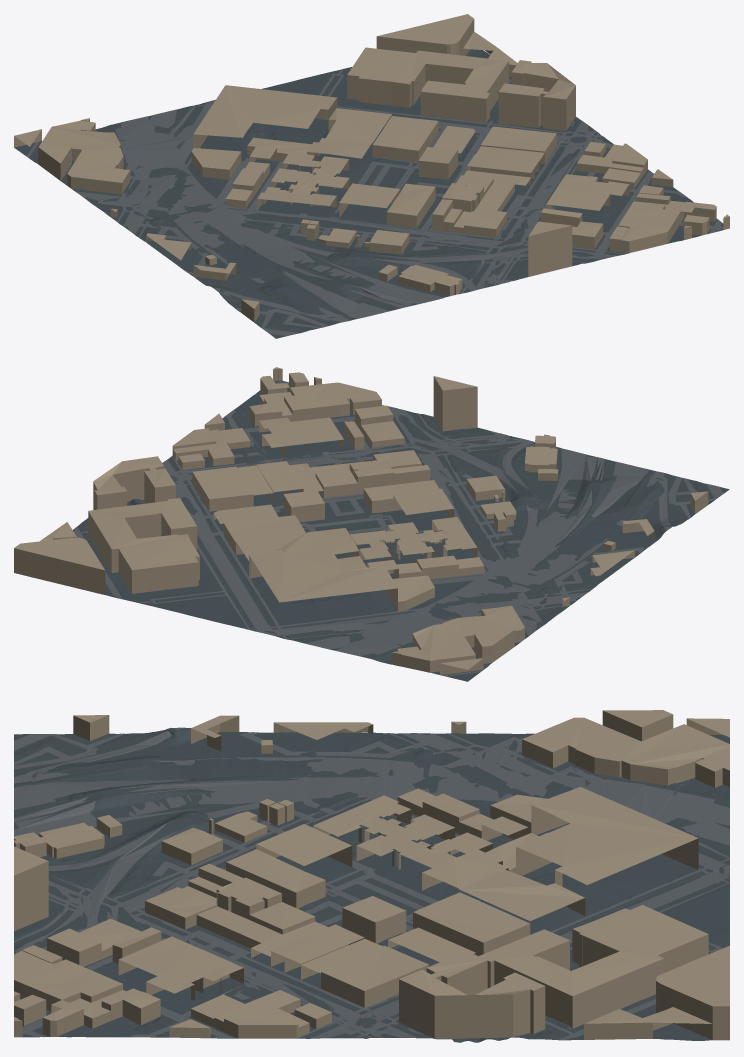
Rendered from epsg26910-1438-10887.lod0.glb.
3 views of the same model, one above another, from view 1: azimuth 30°, elevation 25°; view 2: azimuth 150°, elevation 25°; view 3: azimuth 270°, elevation 25° (orthographic). The views are drawn at different scales.
Visible parts, largest first — view 1: epsg26910-1438-10887-lod0; view 2: epsg26910-1438-10887-lod0; view 3: epsg26910-1438-10887-lod0.
Part boxes in pixels (x1,y1,x2,y2): epsg26910-1438-10887-lod0: (14, 14, 729, 338); epsg26910-1438-10887-lod0: (14, 367, 729, 681); epsg26910-1438-10887-lod0: (14, 710, 729, 1042).
Bounding box in the file's own units: 384 × 36.99 × 384.
